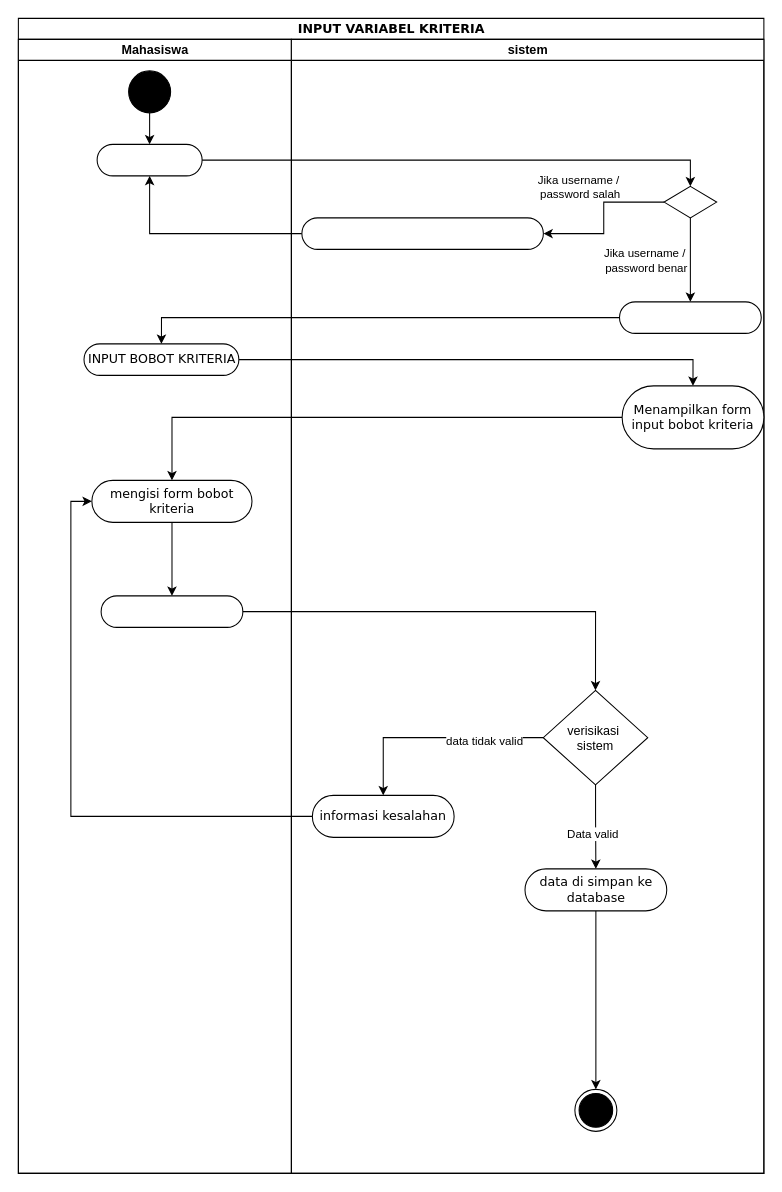
This 782x1192 diagram has some shape labels left out. Here are the shapes that lost their labels. From the top down, the centre of each, then its label:
At pixel 149 159: "Login".
At pixel 422 233: "menampilkan pesan eror".
At pixel 689 317: "KRITERIA".
At pixel 171 611: "klik simpan".
